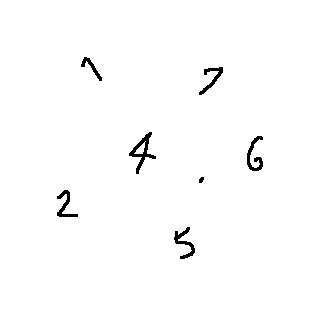.: (192, 174, 210, 187)
1: (76, 54, 110, 86)
2: (54, 187, 85, 223)
4: (123, 130, 161, 180)
5: (169, 215, 202, 270)
6: (243, 129, 275, 181)
7: (194, 62, 228, 100)
